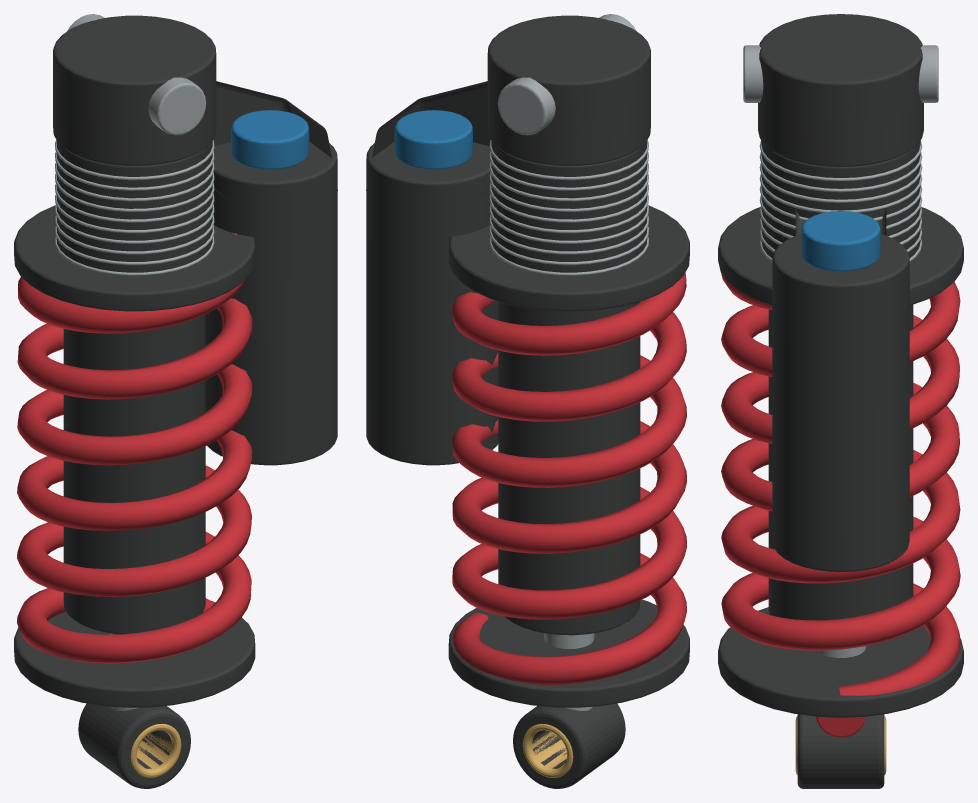
File: rockshox-vivid-coil-ultimate-d1--2001b942.glb
3 renders of one model, left to right at view 1: azimuth 30°, elevation 25°; view 2: azimuth 150°, elevation 25°; view 3: azimuth 270°, elevation 25°, orthographic.
Parts seen in each view (by area): view 1: rockshox-vivid-coil-ultimate-d1--2001b942__link, rockshox-vivid-coil-ultimate-d1--2001b942__rebound, rockshox-vivid-coil-ultimate-d1--2001b942__bolts, rockshox-vivid-coil-ultimate-d1--2001b942__adjuster, rockshox-vivid-coil-ultimate-d1--2001b942__stanchions; view 2: rockshox-vivid-coil-ultimate-d1--2001b942__link, rockshox-vivid-coil-ultimate-d1--2001b942__rebound, rockshox-vivid-coil-ultimate-d1--2001b942__bolts, rockshox-vivid-coil-ultimate-d1--2001b942__adjuster, rockshox-vivid-coil-ultimate-d1--2001b942__stanchions; view 3: rockshox-vivid-coil-ultimate-d1--2001b942__link, rockshox-vivid-coil-ultimate-d1--2001b942__rebound, rockshox-vivid-coil-ultimate-d1--2001b942__bolts, rockshox-vivid-coil-ultimate-d1--2001b942__adjuster.
Boxes of the visible parts, bbox=[...] form: rockshox-vivid-coil-ultimate-d1--2001b942__link: bbox=[14, 15, 337, 788]; rockshox-vivid-coil-ultimate-d1--2001b942__rebound: bbox=[17, 233, 252, 663]; rockshox-vivid-coil-ultimate-d1--2001b942__bolts: bbox=[55, 14, 214, 710]; rockshox-vivid-coil-ultimate-d1--2001b942__adjuster: bbox=[231, 110, 309, 169]; rockshox-vivid-coil-ultimate-d1--2001b942__stanchions: bbox=[130, 723, 181, 777]; rockshox-vivid-coil-ultimate-d1--2001b942__link: bbox=[366, 15, 689, 788]; rockshox-vivid-coil-ultimate-d1--2001b942__rebound: bbox=[451, 272, 686, 685]; rockshox-vivid-coil-ultimate-d1--2001b942__bolts: bbox=[489, 14, 648, 710]; rockshox-vivid-coil-ultimate-d1--2001b942__adjuster: bbox=[394, 110, 472, 169]; rockshox-vivid-coil-ultimate-d1--2001b942__stanchions: bbox=[522, 723, 573, 777]; rockshox-vivid-coil-ultimate-d1--2001b942__link: bbox=[718, 14, 963, 788]; rockshox-vivid-coil-ultimate-d1--2001b942__rebound: bbox=[721, 273, 960, 737]; rockshox-vivid-coil-ultimate-d1--2001b942__bolts: bbox=[743, 45, 938, 657]; rockshox-vivid-coil-ultimate-d1--2001b942__adjuster: bbox=[801, 211, 880, 271].
Bounding box in the file's own units: 0.097 × 0.225 × 0.068.
